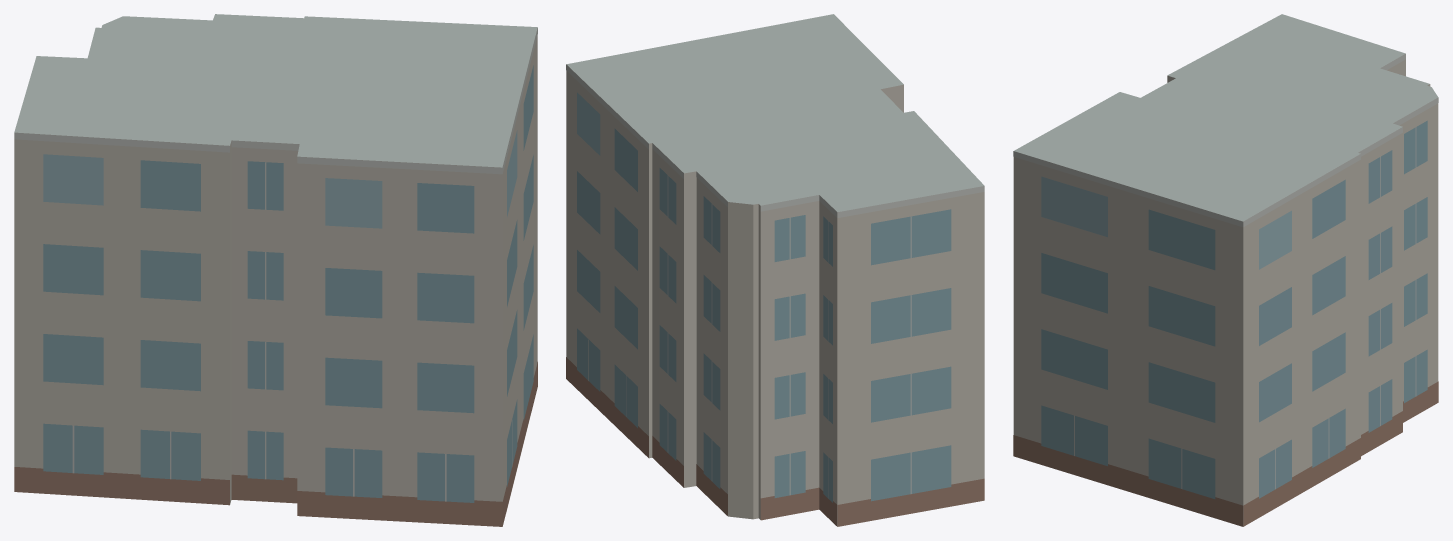
Rendered from survey-upis-32926025.glb.
3 views of the same model, side by side, from view 1: azimuth 30°, elevation 25°; view 2: azimuth 150°, elevation 25°; view 3: azimuth 270°, elevation 25° (orthographic). The views are drawn at different scales.
Visible parts, largest first — view 1: survey-upis-32926025.tmp; view 2: survey-upis-32926025.tmp; view 3: survey-upis-32926025.tmp.
Boxes of the visible parts, left/top/right/bottom form: survey-upis-32926025.tmp: left=14, top=14, right=537, bottom=526; survey-upis-32926025.tmp: left=566, top=14, right=984, bottom=526; survey-upis-32926025.tmp: left=1013, top=14, right=1438, bottom=526.
Bounding box in the file's own units: 18.82 × 12.9 × 16.28.
